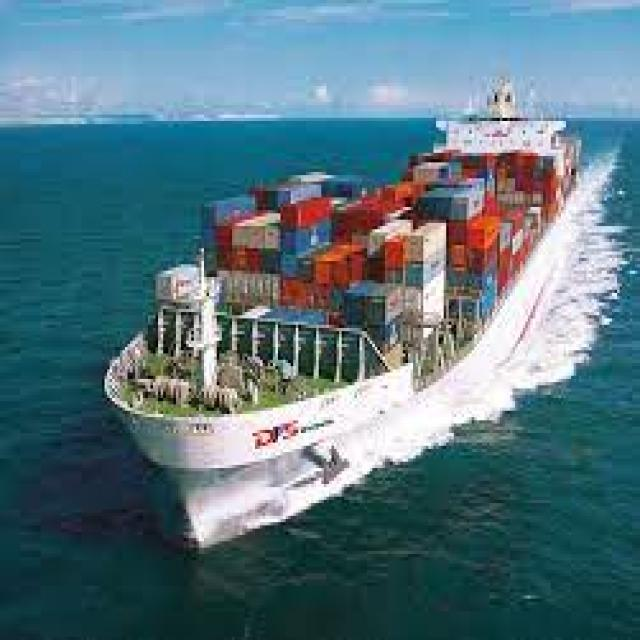cargoship: (102, 77, 598, 541)
